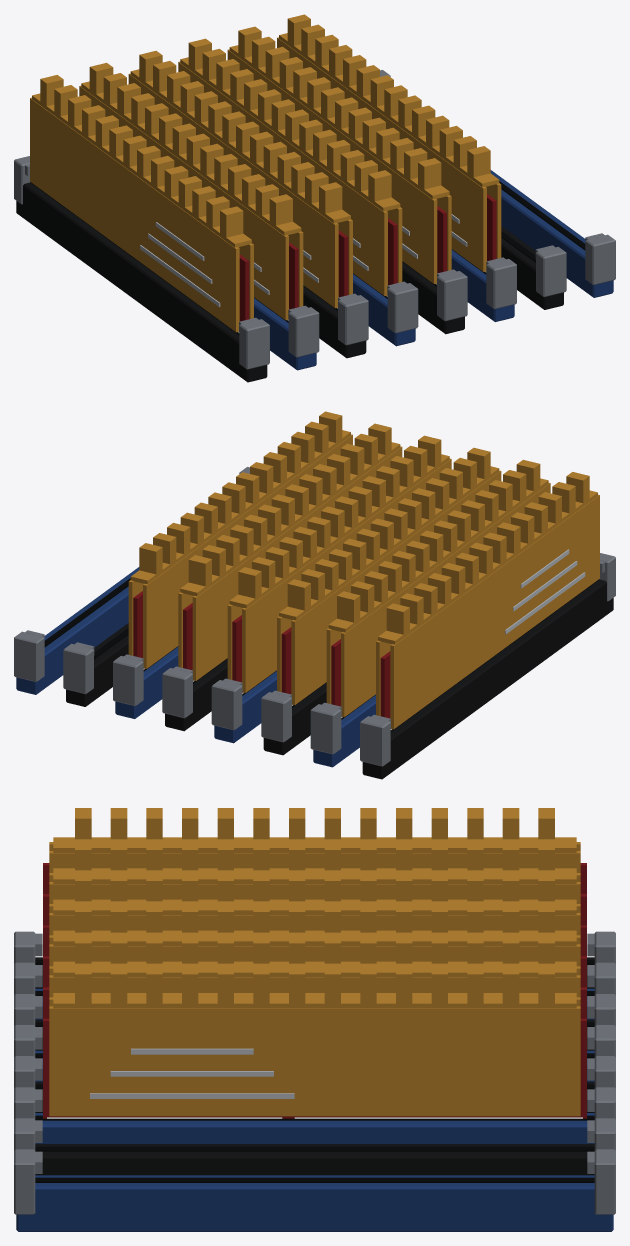
The model's file is hwm_ram_ddr4_128gb.glb.
3 views of the same model, one above another, from view 1: azimuth 30°, elevation 25°; view 2: azimuth 150°, elevation 25°; view 3: azimuth 270°, elevation 25° (orthographic). The views are drawn at different scales.
Parts seen in each view (by area): view 1: Stick_0, Slots, Stick_5, Stick_3, Stick_4, Stick_1, Stick_2, Latch_1_1, Latch_3_1, Latch_6_1, Latch_0_1, Latch_5_1 (+4 smaller); view 2: Stick_0, Slots, Stick_5, Stick_3, Stick_4, Stick_1, Stick_2, Latch_1_0, Latch_3_0, Latch_6_0, Latch_0_0, Latch_5_0 (+4 smaller); view 3: Stick_5, Slots, Stick_2, Stick_3, Stick_1, Stick_4, Stick_0, Latch_7_0, Latch_7_1, Latch_0_0, Latch_0_1, Latch_4_0 (+11 smaller).
Part boxes in pixels (<box>): Stick_0: <box>30,75,253,332</box>; Slots: <box>16,170,613,382</box>; Stick_5: <box>277,14,501,272</box>; Stick_3: <box>178,38,402,296</box>; Stick_4: <box>227,26,451,284</box>; Stick_1: <box>79,62,303,320</box>; Stick_2: <box>128,50,352,308</box>; Latch_1_1: <box>288,305,319,357</box>; Latch_3_1: <box>387,281,418,333</box>; Latch_6_1: <box>535,245,566,297</box>; Latch_0_1: <box>239,317,269,369</box>; Latch_5_1: <box>486,257,516,309</box>; Stick_0: <box>376,472,599,729</box>; Slots: <box>16,567,613,779</box>; Stick_5: <box>128,411,352,669</box>; Stick_3: <box>227,435,451,693</box>; Stick_4: <box>178,423,402,681</box>; Stick_1: <box>326,459,550,717</box>; Stick_2: <box>277,447,501,705</box>; Latch_1_0: <box>310,702,341,754</box>; Latch_3_0: <box>211,678,242,730</box>; Latch_6_0: <box>63,642,94,694</box>; Latch_0_0: <box>360,714,390,766</box>; Latch_5_0: <box>113,654,143,706</box>; Stick_5: <box>43,963,586,1118</box>; Slots: <box>16,957,613,1231</box>; Stick_2: <box>43,870,586,956</box>; Stick_3: <box>43,901,586,987</box>; Stick_1: <box>43,839,586,925</box>; Stick_4: <box>43,932,586,1018</box>; Stick_0: <box>43,808,586,893</box>; Latch_7_0: <box>587,1149,615,1214</box>; Latch_7_1: <box>14,1149,42,1214</box>; Latch_0_0: <box>587,931,615,963</box>; Latch_0_1: <box>14,931,42,963</box>; Latch_4_0: <box>587,1056,615,1088</box>.
Bounding box in the file's own units: 0.1346 × 0.0526 × 0.1472.
